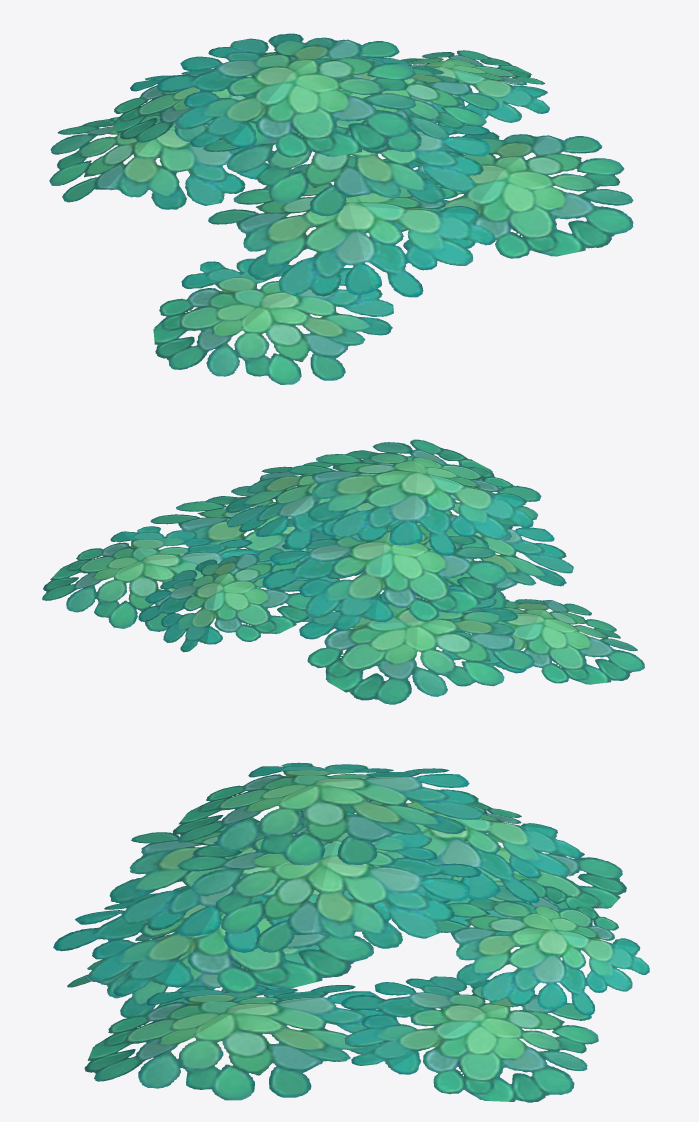
File: map_7005_xiaoshu02a_g.fbx
3 renders of one model, top to bottom at view 1: azimuth 30°, elevation 25°; view 2: azimuth 150°, elevation 25°; view 3: azimuth 270°, elevation 25°, orthographic. The views are drawn at different scales.
Parts seen in each view (by area): view 1: map_7005_xiaoshu02a_g; view 2: map_7005_xiaoshu02a_g; view 3: map_7005_xiaoshu02a_g.
Boxes of the visible parts, <box> form: map_7005_xiaoshu02a_g: <box>49,33,633,384</box>; map_7005_xiaoshu02a_g: <box>42,439,644,704</box>; map_7005_xiaoshu02a_g: <box>53,762,649,1102</box>.
Bounding box in the file's own units: 450 × 177 × 432.
Materials: 1 (1 with a texture image).
